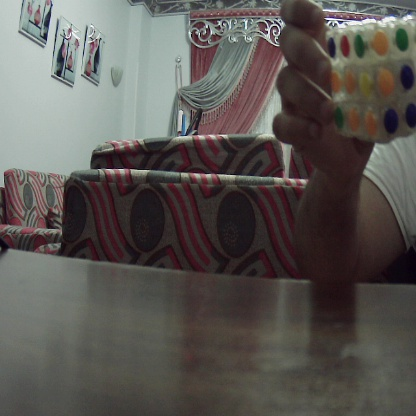Rubix Cube: (327, 24, 409, 137)
